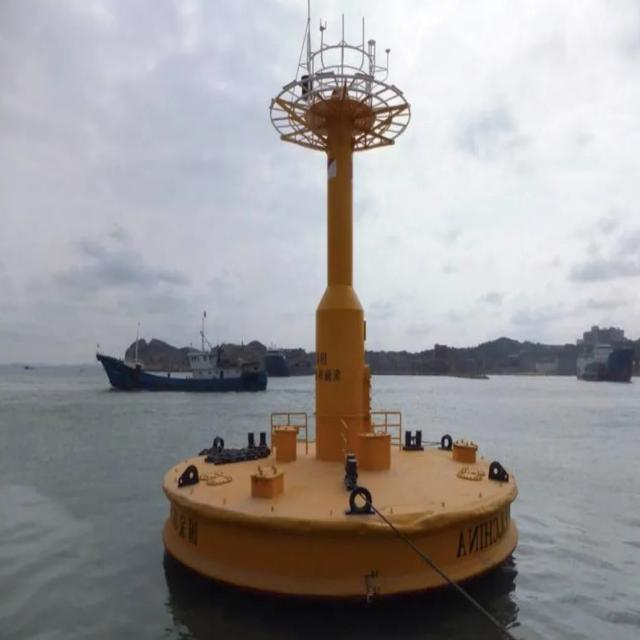buoy: (156, 3, 519, 602)
